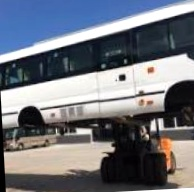bus: (0, 0, 194, 131)
